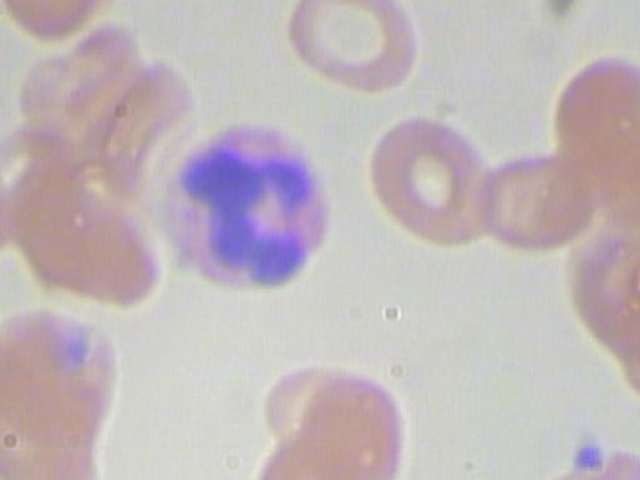Platelets: (569, 434, 617, 478)
RBC: (362, 110, 506, 246), (277, 0, 443, 103), (464, 150, 607, 258), (294, 369, 411, 480), (0, 0, 119, 44), (0, 246, 1, 387)
WBC: (123, 113, 347, 310)
